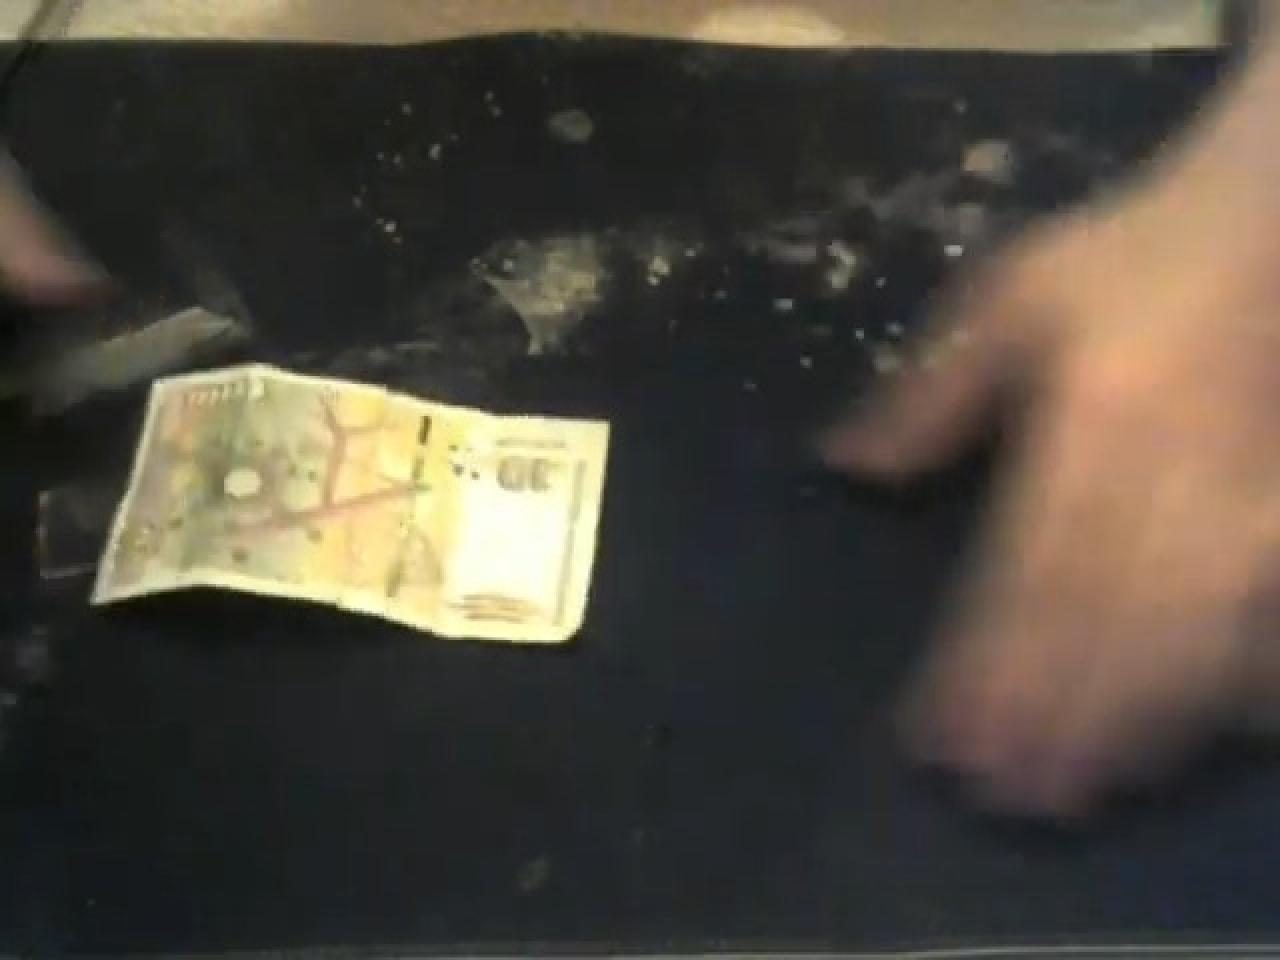10leva: (464, 441, 559, 527)
